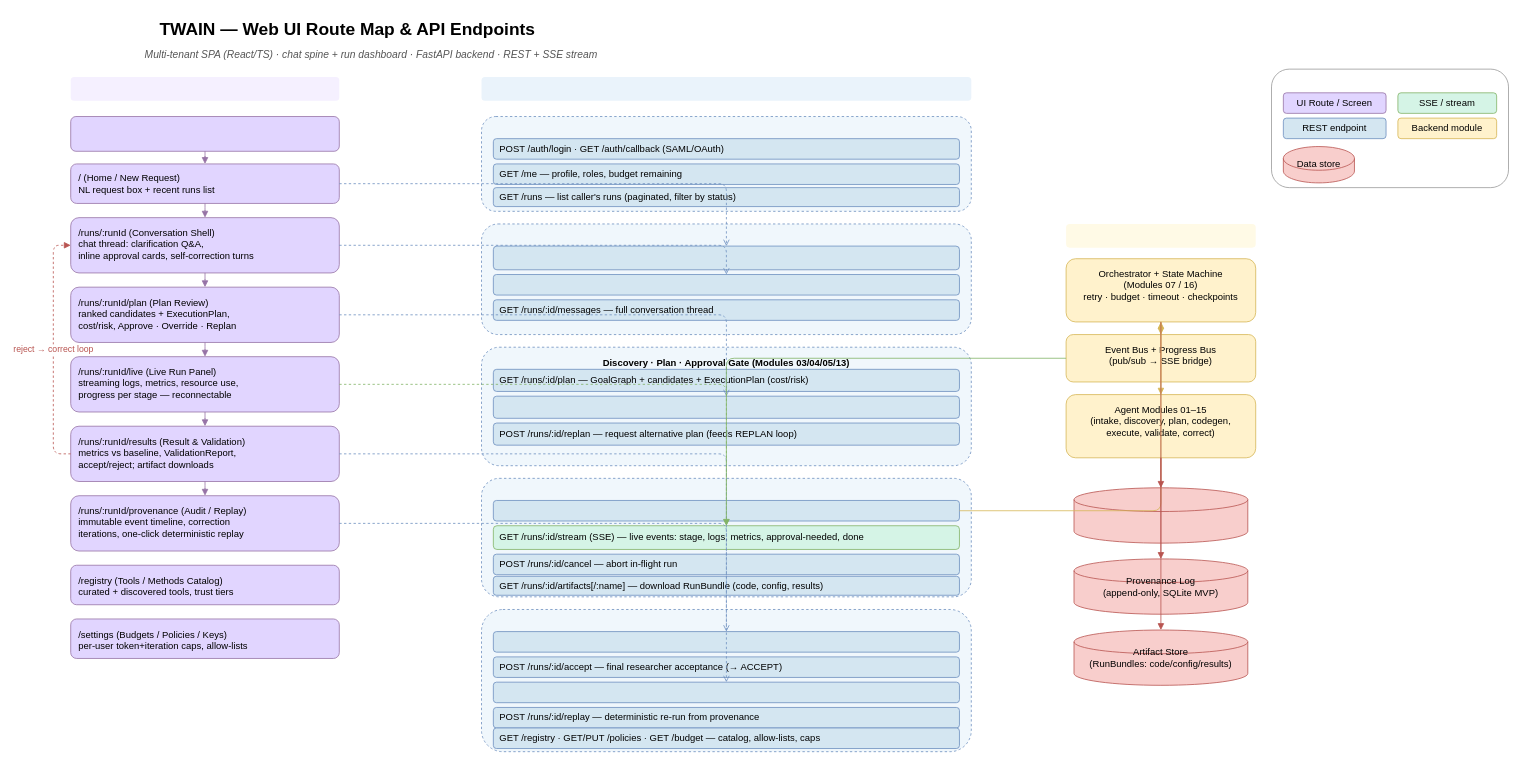
Image size: 1522x766. Some labels were removed from this diagram. The shapes that lost their labels are listed below. From the top down, each one's box as (x1, y1, x2, y2) in pixels, then its label:
(70, 77, 339, 100): UI ROUTES (React Router)
(481, 77, 971, 100): FastAPI ENDPOINTS (/api/v1)
(70, 116, 339, 151): /login SSO / OAuth (WashU SAML)
(1271, 68, 1509, 188): Legend
(481, 116, 971, 211): Auth & Session
(1066, 224, 1255, 247): BACKEND CORE
(493, 245, 959, 270): POST /runs — submit NL request → creates run, returns runId + IntentSpec draft
(481, 223, 971, 335): Intake · Clarification (Modules 01/02/13)
(493, 274, 959, 295): POST /runs/:id/messages — answer clarification question
(493, 395, 959, 418): POST /runs/:id/approvals — {gate, decision: approve|reject|override, note}
(493, 500, 959, 521): POST /runs/:id/execute — kick off orchestrator run (async)
(1073, 487, 1248, 543): Session Store (runs, state, checkpoints)
(481, 478, 971, 597): Execute · Observe (Modules 06/07/08/09)
(493, 631, 959, 652): GET /runs/:id/results — ResultPackage + ValidationReport (vs baseline)
(481, 609, 971, 752): Validate · Correct · Provenance (Modules 10/11/12/14/15)
(493, 681, 959, 703): GET /runs/:id/provenance — append-only event log (CorrectionPlan history)
